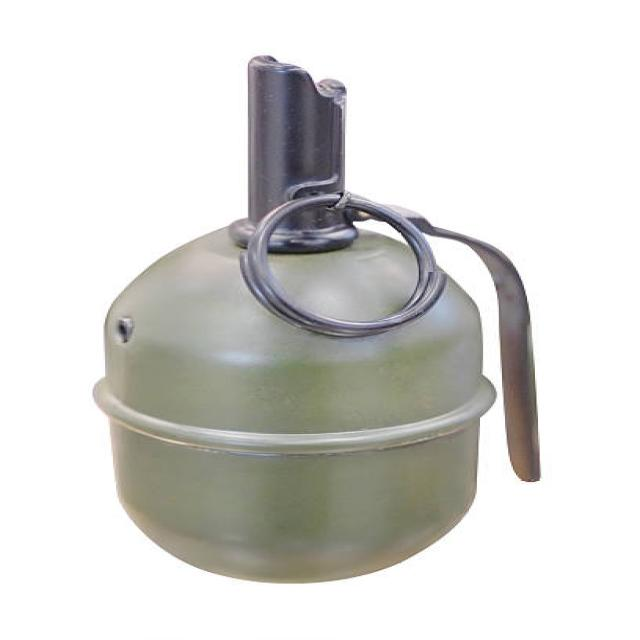grenade: (80, 42, 567, 588)
